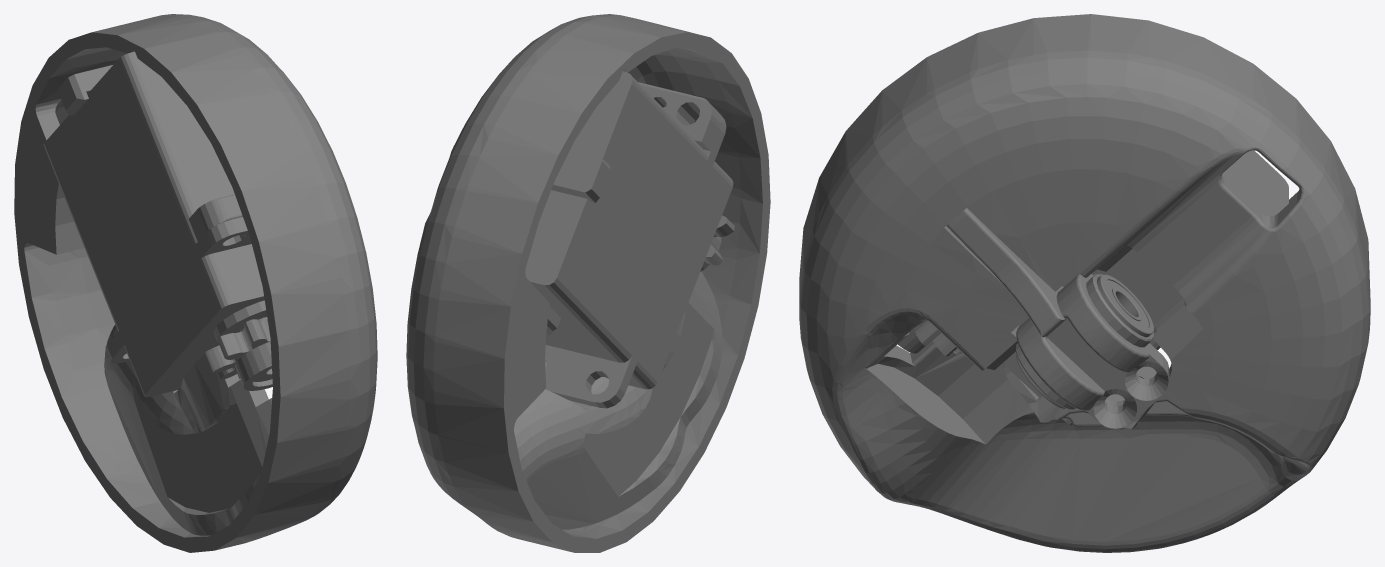
Rendered from lh_thumb_metacarpals_base1_vis.obj.
3 views of the same model, side by side, from view 1: azimuth 30°, elevation 25°; view 2: azimuth 150°, elevation 25°; view 3: azimuth 270°, elevation 25° (orthographic). The views are drawn at different scales.
Visible parts, largest first — view 1: lh_thumb_metacarpals_base1; view 2: lh_thumb_metacarpals_base1; view 3: lh_thumb_metacarpals_base1.
Part boxes in pixels (bbox=[...]): lh_thumb_metacarpals_base1: bbox=[14, 14, 377, 552]; lh_thumb_metacarpals_base1: bbox=[406, 14, 770, 552]; lh_thumb_metacarpals_base1: bbox=[799, 14, 1370, 552].
Bounding box in the file's own units: 0.0223 × 0.0521 × 0.0521.
Materials: 1 (1 with a texture image).
